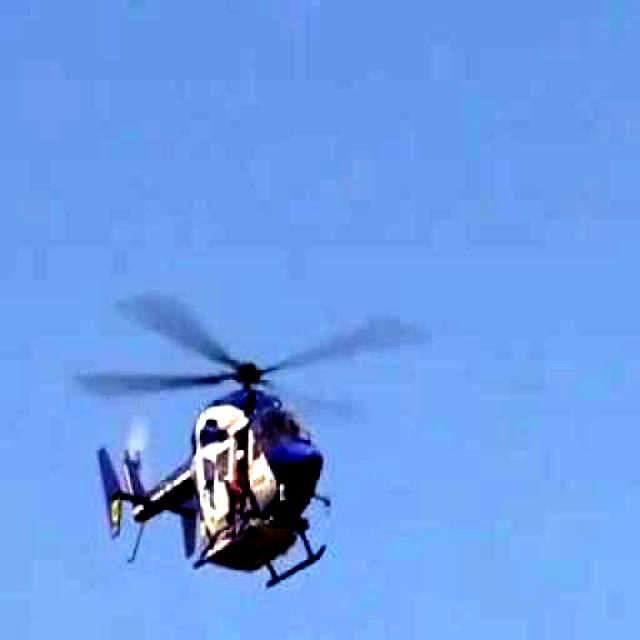drone: (34, 268, 452, 615)
